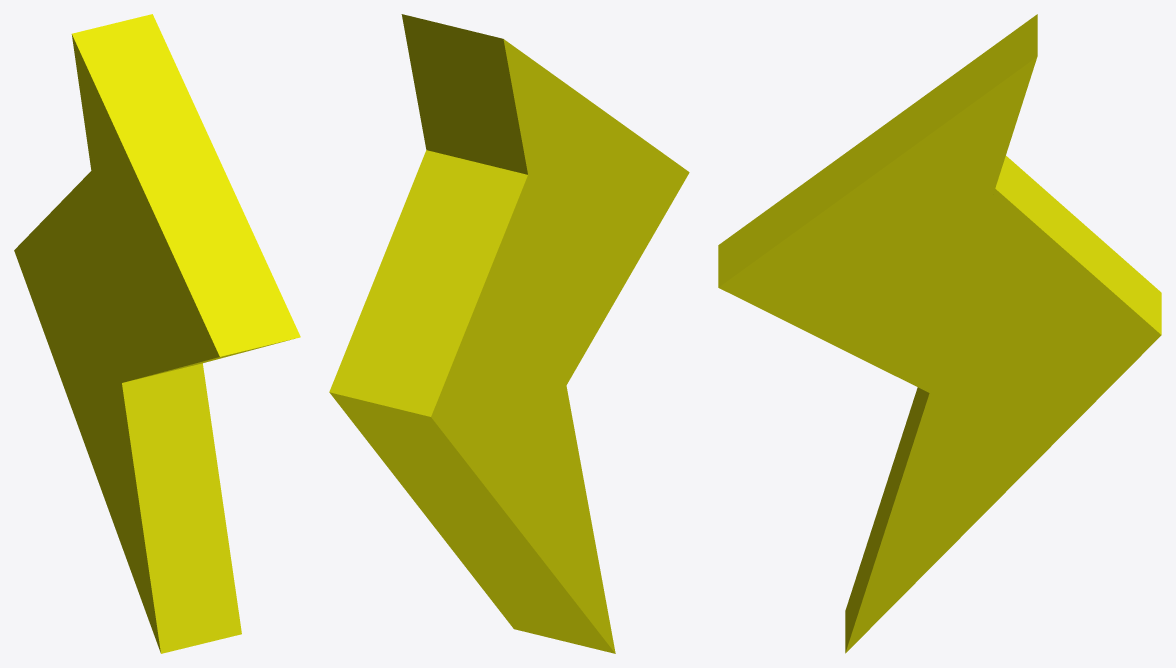
The model's file is RaioNew.fbx.
3 views of the same model, side by side, from view 1: azimuth 30°, elevation 25°; view 2: azimuth 150°, elevation 25°; view 3: azimuth 270°, elevation 25° (orthographic). The views are drawn at different scales.
Parts seen in each view (by area): view 1: Cube; view 2: Cube; view 3: Cube.
Boxes of the visible parts, x1,y1,x2,y2 form: Cube: [14, 14, 300, 653]; Cube: [329, 14, 689, 653]; Cube: [718, 14, 1161, 653].
Bounding box in the file's own units: 51.53 × 337 × 227.
